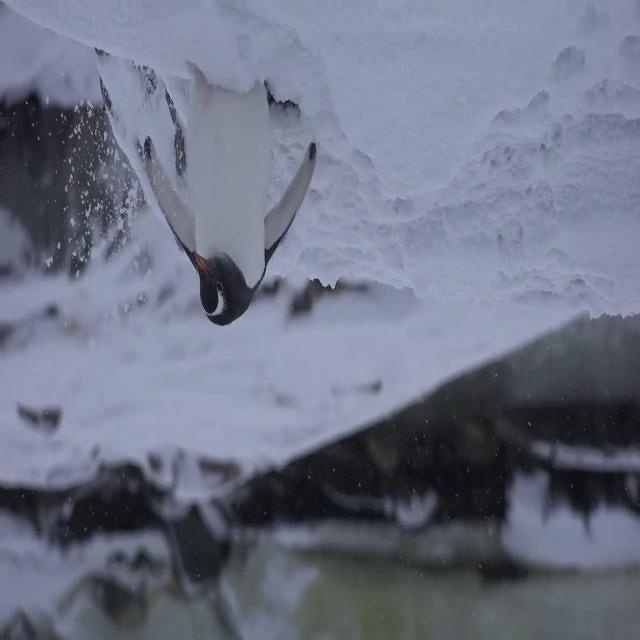penguin: (139, 61, 319, 327)
